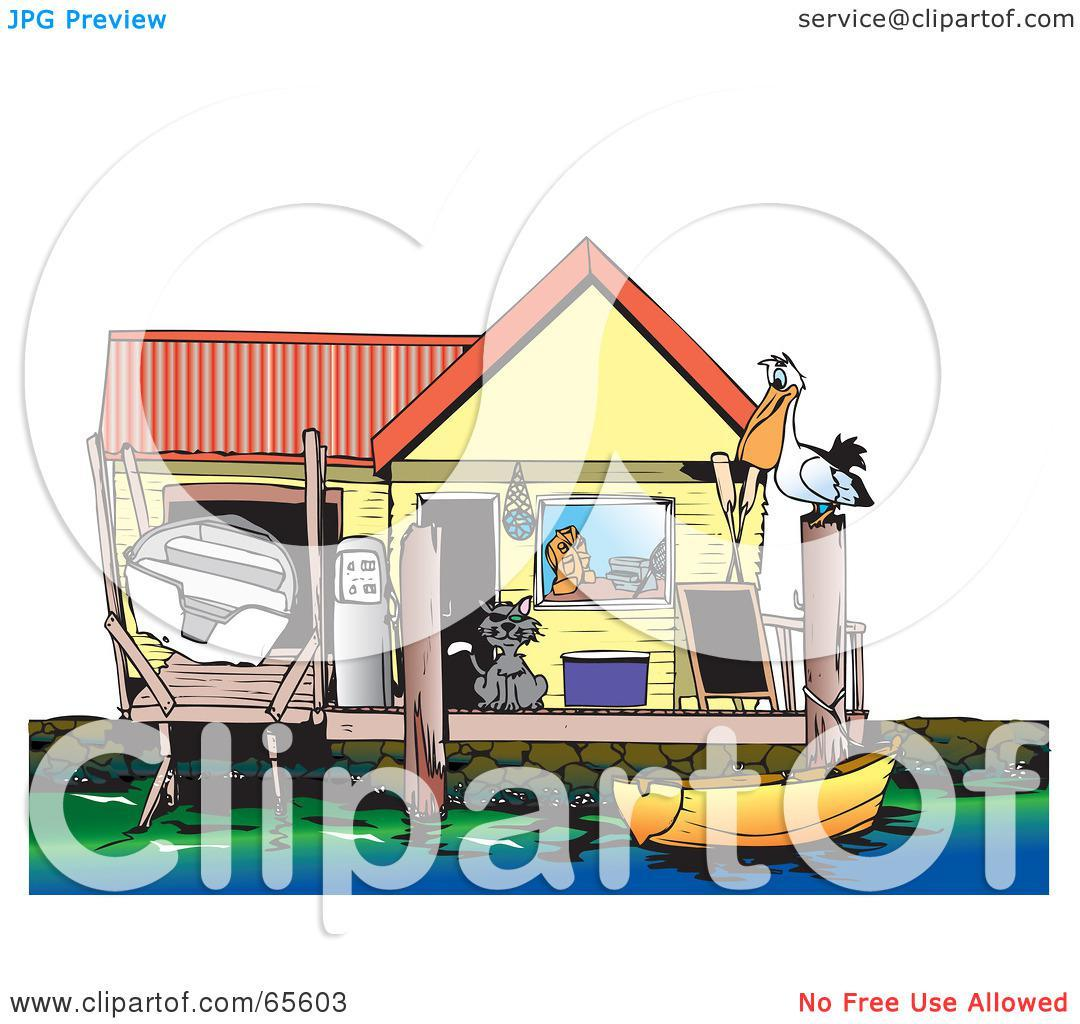bird: (723, 344, 887, 528)
boat: (598, 751, 902, 870), (105, 500, 305, 676)
cat: (442, 598, 551, 720)
